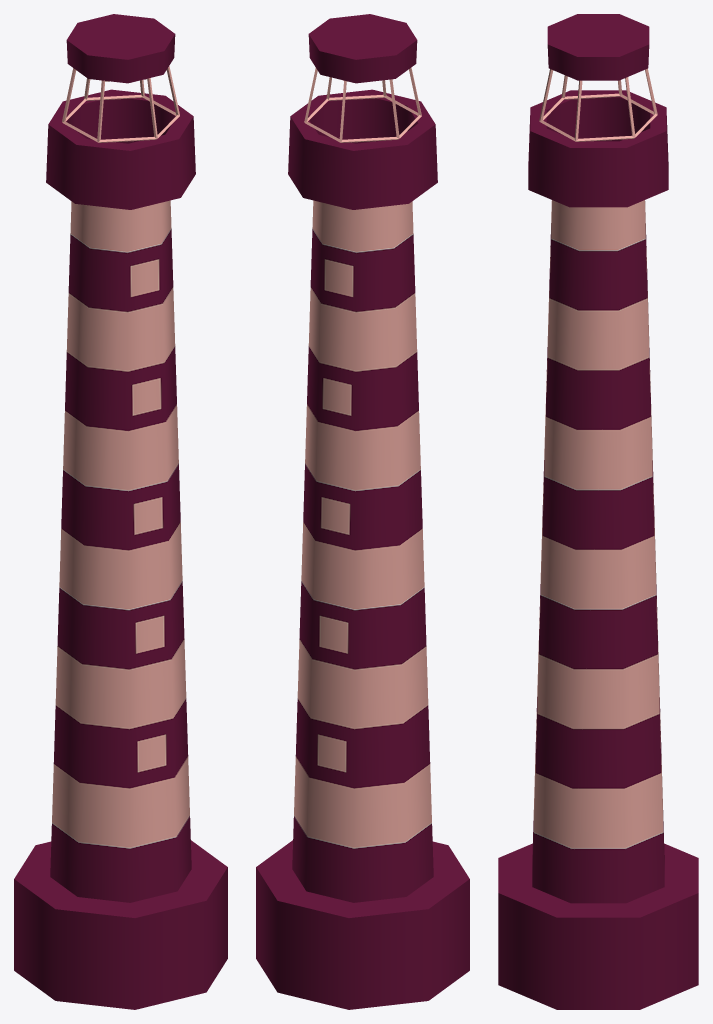
Rendered from Sunset_Lighthouse_001.FBX.
The picture shows the model from 3 angles, left to right: view 1: azimuth 30°, elevation 25°; view 2: azimuth 150°, elevation 25°; view 3: azimuth 270°, elevation 25°; orthographic projection.
Visible parts, largest first — view 1: Sunset_Lighthouse_001; view 2: Sunset_Lighthouse_001; view 3: Sunset_Lighthouse_001.
Part boxes in pixels (x1,y1,x2,y2): Sunset_Lighthouse_001: [14, 14, 227, 1009]; Sunset_Lighthouse_001: [256, 14, 469, 1009]; Sunset_Lighthouse_001: [498, 14, 698, 1009].
Bounding box in the file's own units: 239 × 1229 × 239.
Materials: 1 (1 with a texture image).
